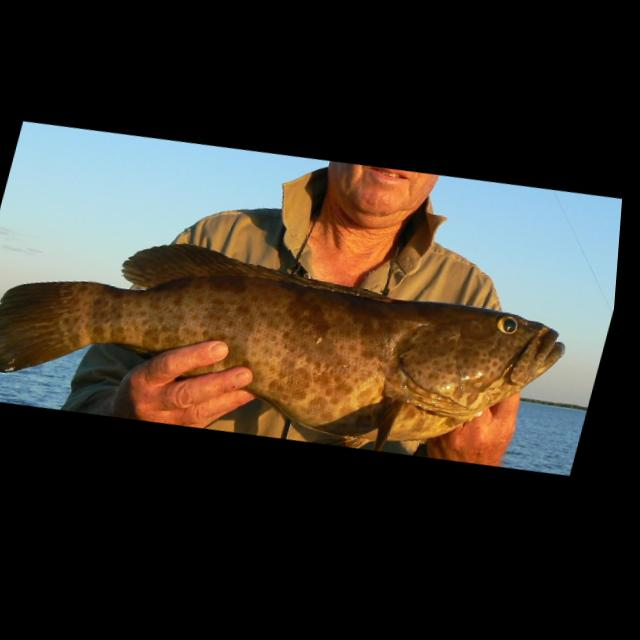Groupers: (0, 185, 585, 501)
